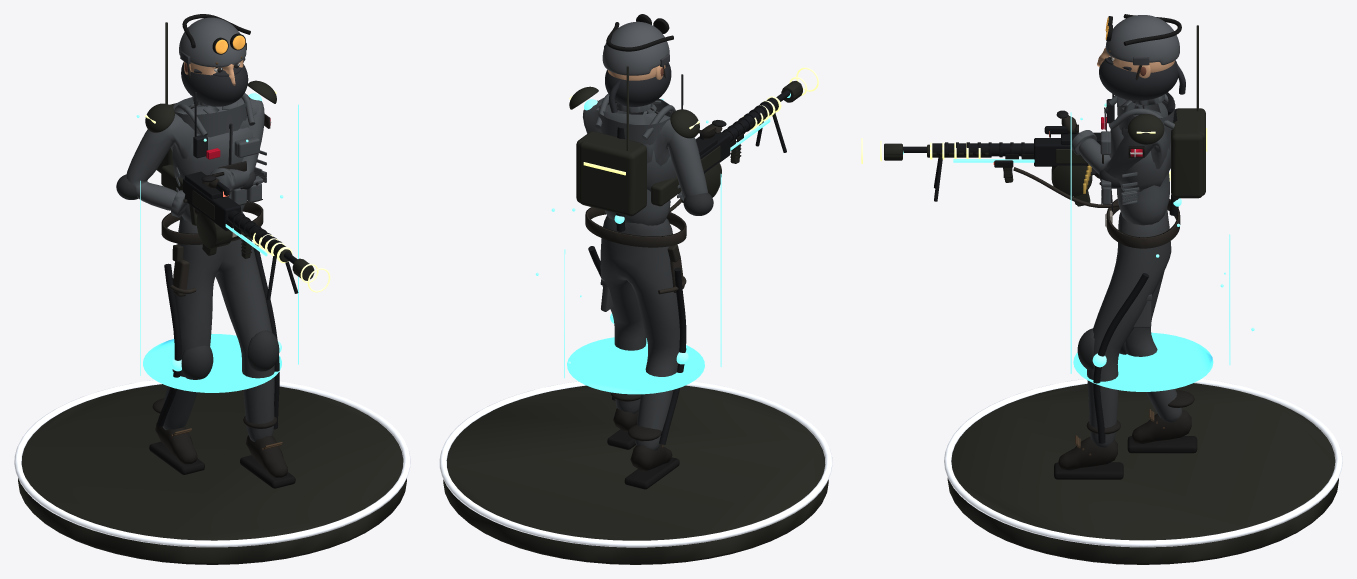
The model's file is garder_std.glb.
3 views of the same model, side by side, from view 1: azimuth 30°, elevation 25°; view 2: azimuth 150°, elevation 25°; view 3: azimuth 270°, elevation 25° (orthographic).
Visible parts, largest first — view 1: fod_net, menneske_net, op1_net, hoved_net, op4.001_net, vaaben_net, op4.002_net, op3_net, op4_net, op2.001_net, op3.001_net, op1.001_net; view 2: fod_net, menneske_net, op4.002_net, op4.001_net, hoved_net, op1_net, vaaben_net, op3_net, op4_net, ned4_net, op1.001_net, op3.001_net; view 3: fod_net, menneske_net, hoved_net, op4.001_net, op1_net, vaaben_net, ned4_net, op4.002_net, op1.001_net, op3_net, op4_net, op3.001_net.
Boxes of the visible parts, x1,y1,x2,y2 form: fod_net: (14,380,410,564); menneske_net: (126,95,295,488); op1_net: (116,92,279,379); hoved_net: (179,14,250,106); op4.001_net: (136,104,298,392); vaaben_net: (161,164,298,300); op4.002_net: (156,93,281,429); op3_net: (145,22,276,132); op4_net: (225,224,330,292); op2.001_net: (174,137,282,447); op3.001_net: (192,190,292,262); op1.001_net: (226,210,297,263); fod_net: (439,381,832,564); menneske_net: (583,98,726,489); op4.002_net: (579,99,688,444); op4.001_net: (535,98,721,394); hoved_net: (602,14,673,112); op1_net: (585,74,713,351); vaaben_net: (651,101,786,206); op3_net: (569,66,699,150); op4_net: (730,67,818,150); ned4_net: (576,131,642,202); op1.001_net: (669,91,789,212); op3.001_net: (701,105,778,171); fod_net: (944,379,1342,564); menneske_net: (1054,92,1197,479); hoved_net: (1097,14,1185,100); op4.001_net: (1070,112,1254,391); op1_net: (1077,94,1180,369); vaaben_net: (934,126,1100,201); ned4_net: (1122,110,1203,202); op4.002_net: (1092,108,1207,443); op1.001_net: (903,143,1118,207); op3_net: (1128,25,1198,144); op4_net: (861,138,1170,180); op3.001_net: (927,144,1087,204).
Bounding box in the file's own units: 1.94 × 2.5 × 2.34.
